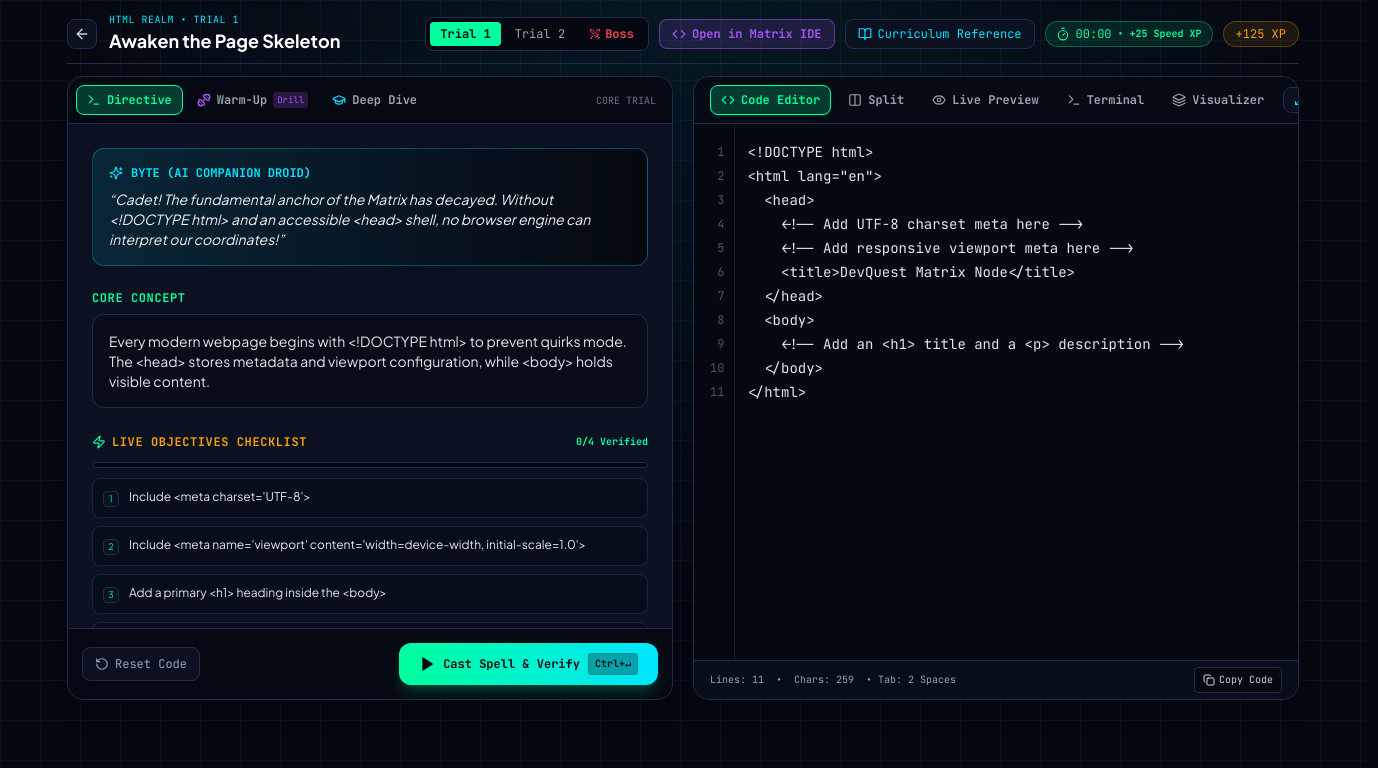
Test case: QuestCodingWorkspace Component › handles running invalid solution and displays failure diagnostics in terminal
Replace the text in the text box named "quest solution code editor" with "<div>no header</div>" at (1017, 392), box [735,124,1298,660]
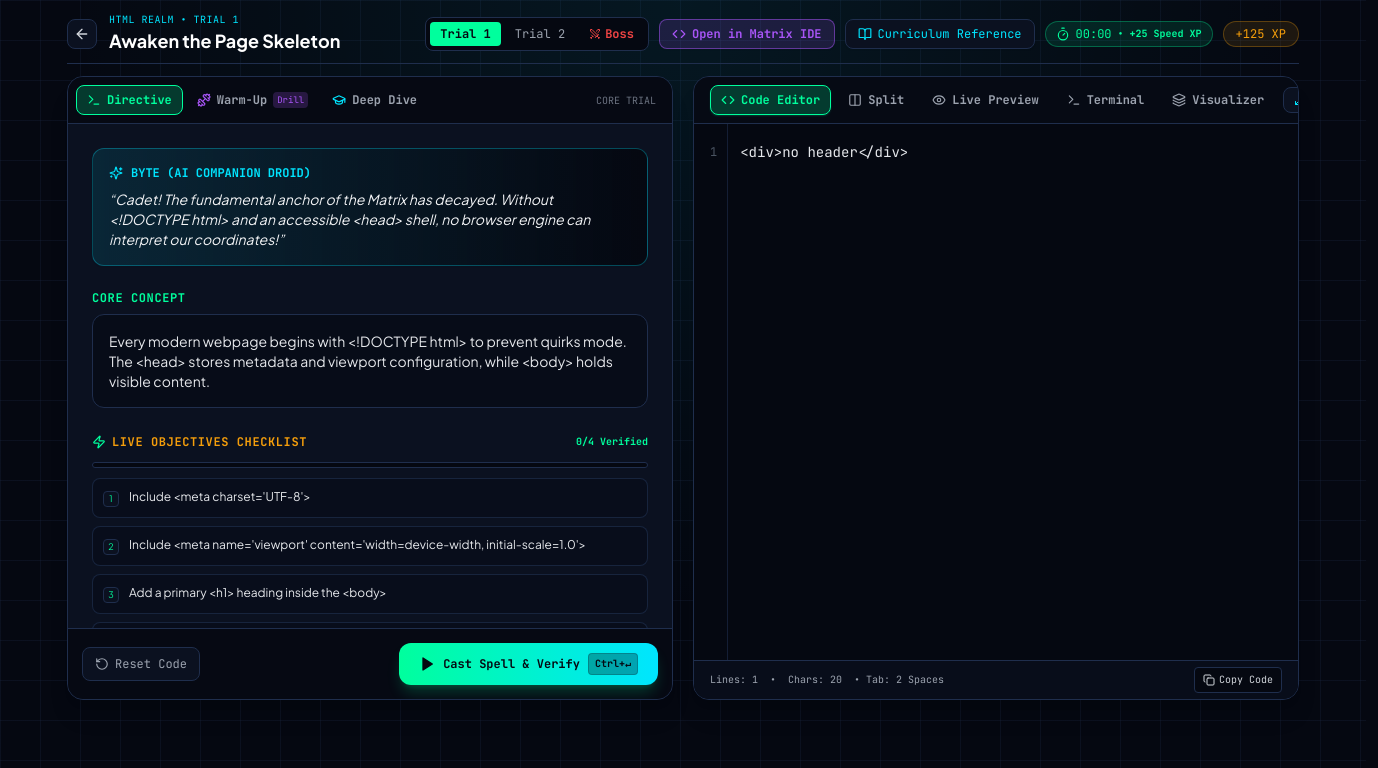
Click the button "Cast Spell & Verify Ctrl+↵" at (529, 664), box [399,643,658,685]
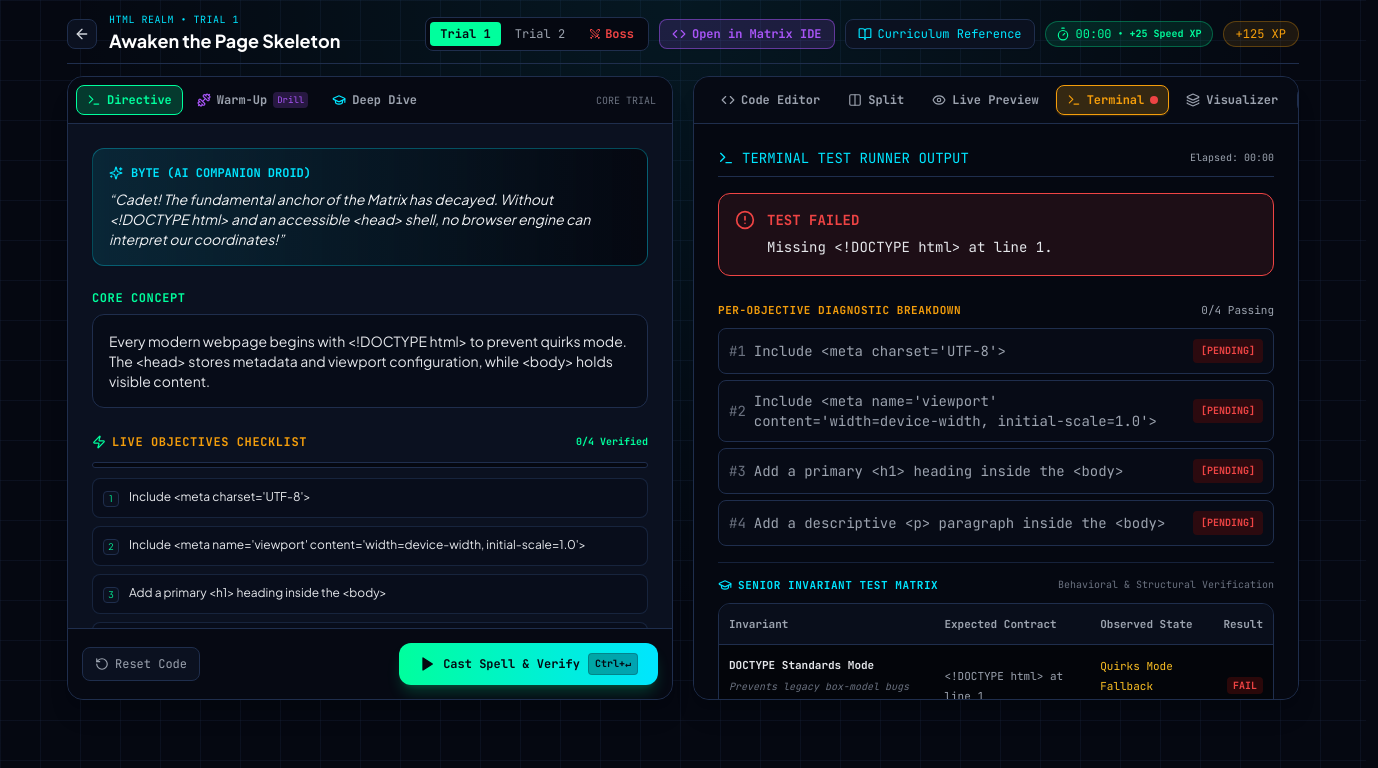
Check: the heading "TEST FAILED" is shown, box [767,210,859,230]
